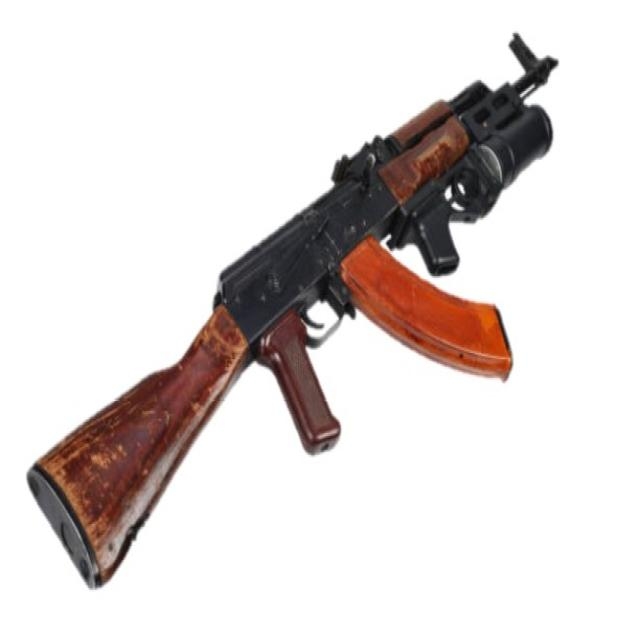rifle: (24, 22, 576, 598)
